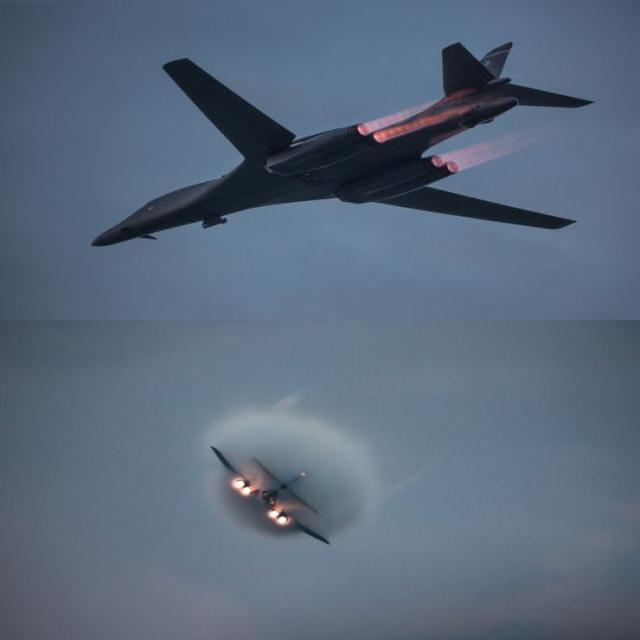MIL_Plane: (89, 0, 596, 174), (202, 445, 325, 546)
